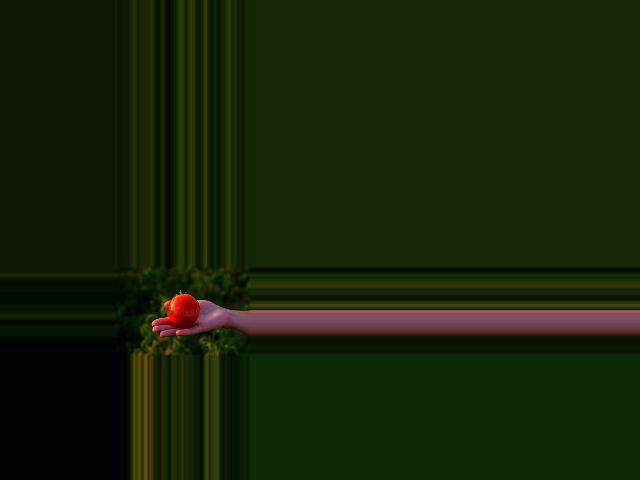tomato: (168, 294, 198, 328)
